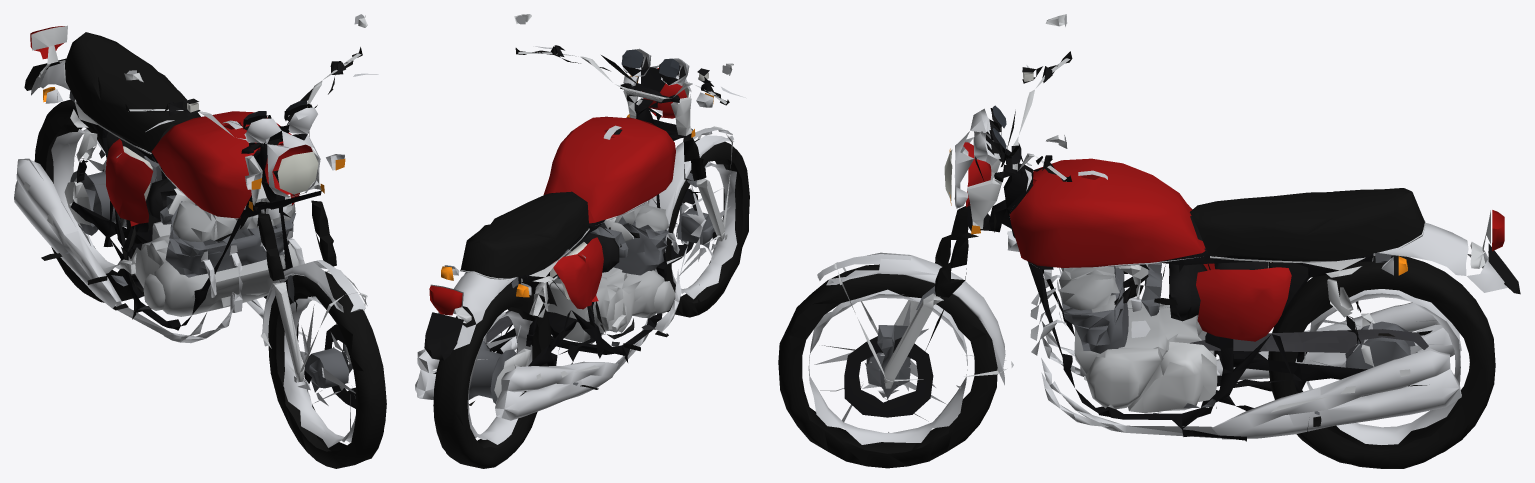
Rendered from HondaCB750_LOD.obj.
The picture shows the model from 3 angles, left to right: view 1: azimuth 30°, elevation 25°; view 2: azimuth 150°, elevation 25°; view 3: azimuth 270°, elevation 25°; orthographic projection. The views are drawn at different scales.
Visible parts, largest first — view 1: Caisse_Peinture_0CarrozzeriaLP, RoueAV_Corps_0Pneumatici, Caisse_Corps_11xxxDefault, Caisse_Corps_terminali, Caisse_Corps_frame, Caisse_Corps_engine, Caisse_Corps_steel, RoueAR_Corps_0Pneumatici, Direction_Corps_CromMed, Direction_Corps_Manubrio, Caisse_Corps_CromeVarie, RoueAV_Corps_Cerchi (+19 smaller); view 2: Caisse_Peinture_0CarrozzeriaLP, RoueAR_Corps_0Pneumatici, Caisse_Corps_11xxxDefault, Caisse_Corps_terminali, Caisse_Corps_frame, RoueAV_Corps_0Pneumatici, Caisse_Corps_engine, Caisse_Corps_PlasticaNera, Caisse_Corps_steel, Direction_Corps_Manubrio, RoueAV_Corps_Cerchi, Caisse_Corps_CromMed (+19 smaller); view 3: Caisse_Peinture_0CarrozzeriaLP, RoueAR_Corps_0Pneumatici, Caisse_Corps_11xxxDefault, Caisse_Corps_terminali, RoueAV_Corps_0Pneumatici, Caisse_Corps_frame, Caisse_Corps_Manubrio, Direction_Corps_Manubrio, Caisse_Corps_steel, RoueAV_Corps_Cerchi, Caisse_Corps_CromMed, Caisse_Corps_PlasticaNera (+15 smaller).
Part boxes in pixels (x1,y1,x2,y2): Caisse_Peinture_0CarrozzeriaLP: (105,111,312,226); RoueAV_Corps_0Pneumatici: (268,271,386,468); Caisse_Corps_11xxxDefault: (65,32,200,152); Caisse_Corps_terminali: (14,158,121,309); Caisse_Corps_frame: (70,103,321,330); Caisse_Corps_engine: (140,221,283,316); Caisse_Corps_steel: (64,91,295,286); RoueAR_Corps_0Pneumatici: (34,99,160,302); Direction_Corps_CromMed: (244,107,365,312); Direction_Corps_Manubrio: (124,15,367,382); Caisse_Corps_CromeVarie: (24,25,195,274); RoueAV_Corps_Cerchi: (283,296,355,447); Caisse_Peinture_0CarrozzeriaLP: (543,68,687,309); RoueAR_Corps_0Pneumatici: (433,282,551,468); Caisse_Corps_11xxxDefault: (461,191,588,278); Caisse_Corps_terminali: (415,335,618,420); Caisse_Corps_frame: (487,107,692,366); RoueAV_Corps_0Pneumatici: (665,139,749,317); Caisse_Corps_engine: (543,267,664,344); Caisse_Corps_PlasticaNera: (424,45,709,360); Caisse_Corps_steel: (464,216,669,385); Direction_Corps_Manubrio: (514,14,733,241); RoueAV_Corps_Cerchi: (671,161,737,299); Caisse_Corps_CromMed: (453,125,621,349); Caisse_Peinture_0CarrozzeriaLP: (963,142,1291,341); RoueAR_Corps_0Pneumatici: (1268,255,1495,468); Caisse_Corps_11xxxDefault: (1190,188,1424,261); Caisse_Corps_terminali: (1212,302,1461,439); RoueAV_Corps_0Pneumatici: (778,264,997,468); Caisse_Corps_frame: (967,170,1373,441); Caisse_Corps_Manubrio: (1128,341,1217,412); Direction_Corps_Manubrio: (884,14,1070,388); Caisse_Corps_steel: (1061,253,1391,414); RoueAV_Corps_Cerchi: (808,289,967,444); Caisse_Corps_CromMed: (1007,170,1507,337); Caisse_Corps_PlasticaNera: (1042,66,1520,321).
Bounding box in the file's own units: 0.8784 × 1.25 × 2.15.
